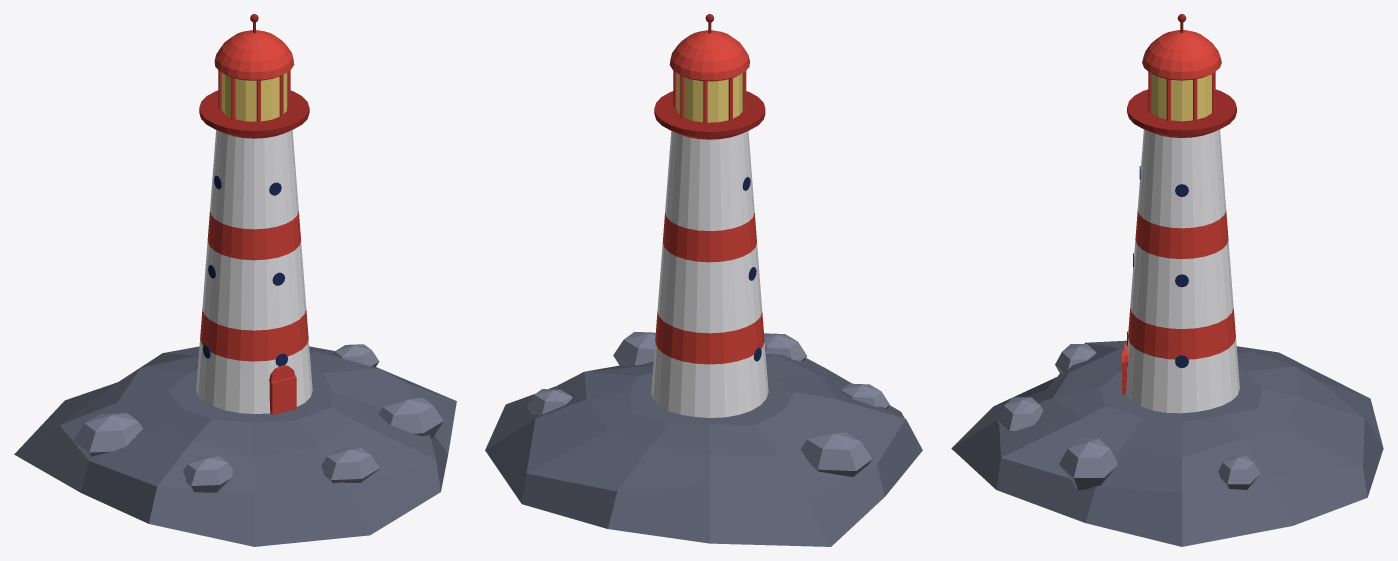
The model's file is sail_set.glb.
3 views of the same model, side by side, from view 1: azimuth 30°, elevation 25°; view 2: azimuth 150°, elevation 25°; view 3: azimuth 270°, elevation 25° (orthographic).
Visible parts, largest first — view 1: Lighthouse, LanternGlow; view 2: Lighthouse, LanternGlow; view 3: Lighthouse, LanternGlow.
Boxes of the visible parts, x1,y1,x2,y2 form: Lighthouse: (14,14,456,546); LanternGlow: (221,72,287,121); Lighthouse: (485,14,922,546); LanternGlow: (676,73,742,122); Lighthouse: (951,14,1383,546); LanternGlow: (1152,74,1211,121).
Size of the model in its own units: 26.47 by 29.08 by 26.
